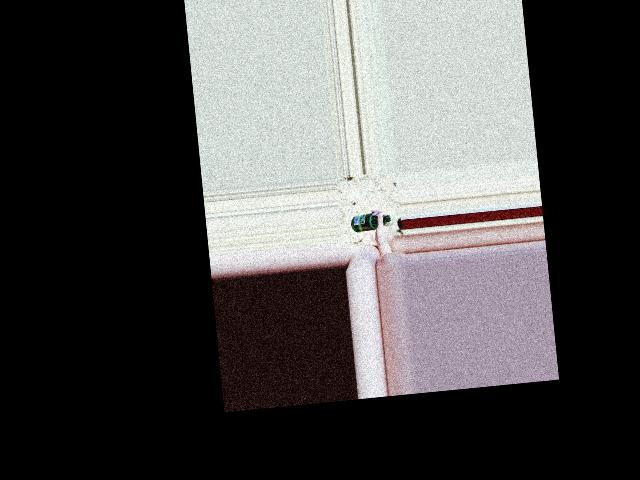beer: (350, 212, 392, 233)
